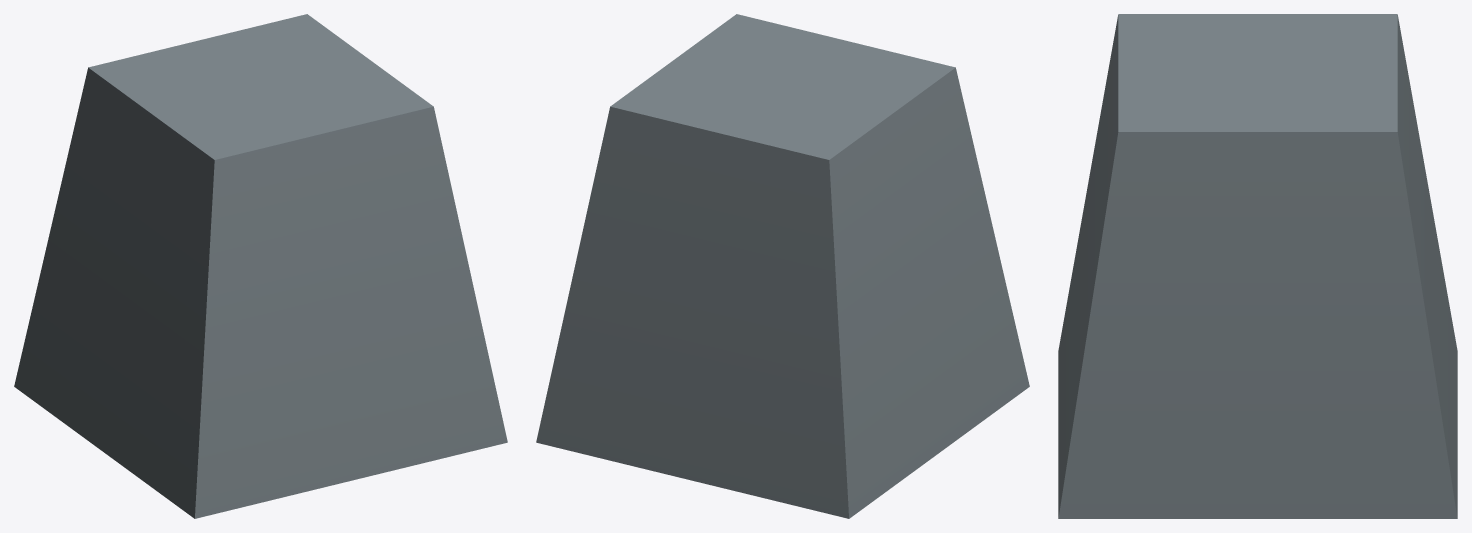
The model's file is Rock_2_A.glb.
The picture shows the model from 3 angles, left to right: view 1: azimuth 30°, elevation 25°; view 2: azimuth 150°, elevation 25°; view 3: azimuth 270°, elevation 25°; orthographic projection. The views are drawn at different scales.
Visible parts, largest first — view 1: Rock_2_A_Color1; view 2: Rock_2_A_Color1; view 3: Rock_2_A_Color1.
Part boxes in pixels (left/top/right/bottom): Rock_2_A_Color1: left=14, top=14, right=507, bottom=518; Rock_2_A_Color1: left=536, top=14, right=1029, bottom=518; Rock_2_A_Color1: left=1058, top=14, right=1457, bottom=518.
Bounding box in the file's own units: 0.2156 × 0.2156 × 0.2156.
1 material, 1 textured.
